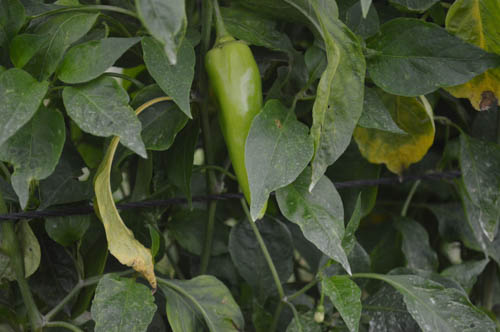ChiliPepper: (209, 44, 269, 214)
